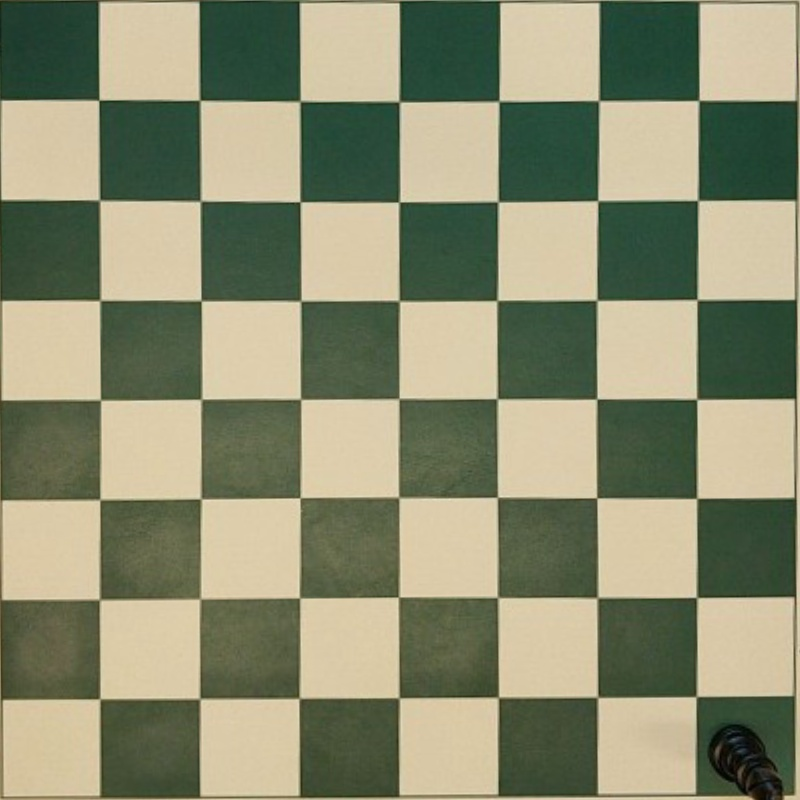black-bishop: (707, 724, 786, 800)
